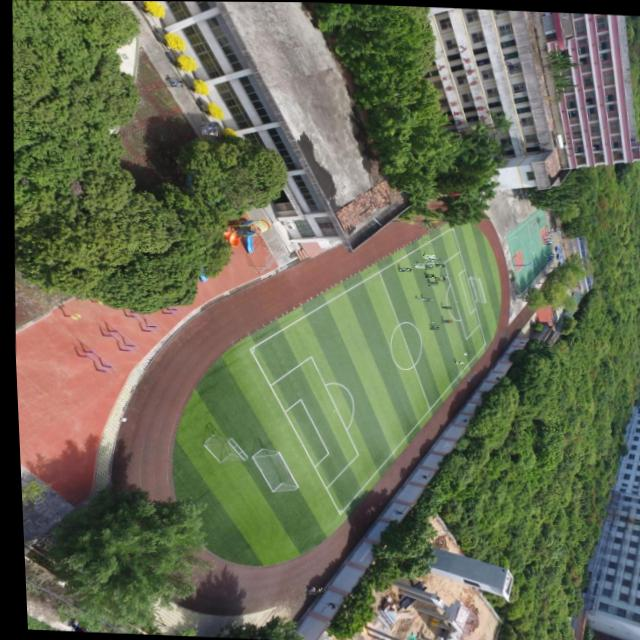Person: (199, 121, 215, 135), (163, 76, 182, 87), (64, 621, 81, 632), (301, 586, 317, 593), (300, 587, 309, 594), (437, 318, 448, 323), (394, 267, 407, 271), (411, 262, 421, 267), (436, 273, 446, 278), (419, 254, 431, 258), (425, 324, 434, 329), (418, 296, 428, 300), (421, 264, 429, 269), (431, 276, 441, 280), (425, 280, 434, 284), (424, 281, 433, 285), (421, 273, 430, 277), (431, 263, 441, 266), (437, 305, 447, 308), (428, 257, 437, 260), (419, 259, 430, 261), (412, 297, 421, 299), (450, 361, 459, 363), (423, 262, 431, 264), (459, 351, 462, 354)
